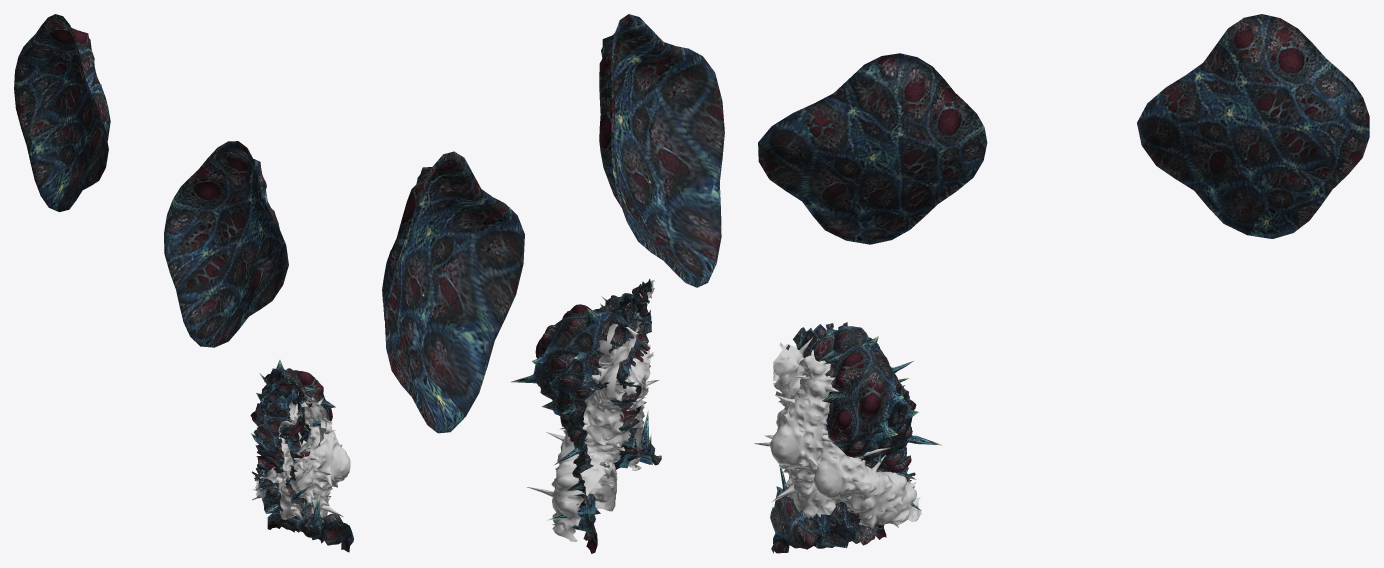
File: backup.fbx
3 renders of one model, left to right at view 1: azimuth 30°, elevation 25°; view 2: azimuth 150°, elevation 25°; view 3: azimuth 270°, elevation 25°, orthographic. The views are drawn at different scales.
Parts seen in each view (by area): view 1: LODGroup_1_MainMesh_1_SubMesh_1, LODGroup_1_MainMesh_1_SubMesh_3, LODGroup_1_MainMesh_1_SubMesh_2; view 2: LODGroup_1_MainMesh_1_SubMesh_1, LODGroup_1_MainMesh_1_SubMesh_3, LODGroup_1_MainMesh_1_SubMesh_2; view 3: LODGroup_1_MainMesh_1_SubMesh_1, LODGroup_1_MainMesh_1_SubMesh_3, LODGroup_1_MainMesh_1_SubMesh_2.
Part boxes in pixels (x1=…): LODGroup_1_MainMesh_1_SubMesh_1: x1=14, y1=14, x2=327, y2=528; LODGroup_1_MainMesh_1_SubMesh_3: x1=252, y1=391, x2=350, y2=522; LODGroup_1_MainMesh_1_SubMesh_2: x1=251, y1=368, x2=353, y2=552; LODGroup_1_MainMesh_1_SubMesh_1: x1=382, y1=14, x2=724, y2=529; LODGroup_1_MainMesh_1_SubMesh_3: x1=527, y1=280, x2=659, y2=541; LODGroup_1_MainMesh_1_SubMesh_2: x1=511, y1=279, x2=652, y2=553; LODGroup_1_MainMesh_1_SubMesh_1: x1=758, y1=14, x2=1369, y2=497; LODGroup_1_MainMesh_1_SubMesh_3: x1=754, y1=337, x2=921, y2=528; LODGroup_1_MainMesh_1_SubMesh_2: x1=770, y1=322, x2=942, y2=553.
Bounding box in the file's own units: 526 × 1546 × 1746.
